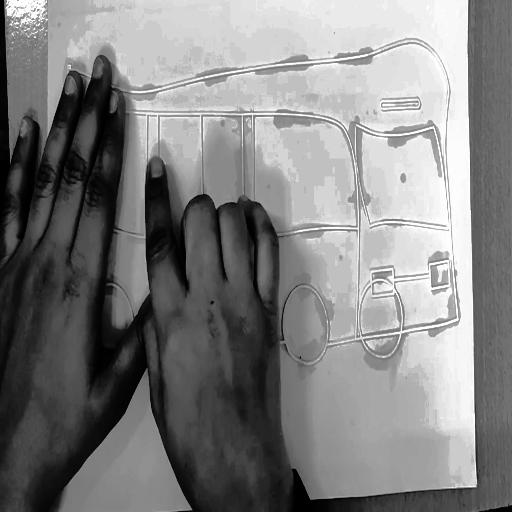bottom_right: (472, 479, 480, 491)
bus: (55, 36, 461, 378)
